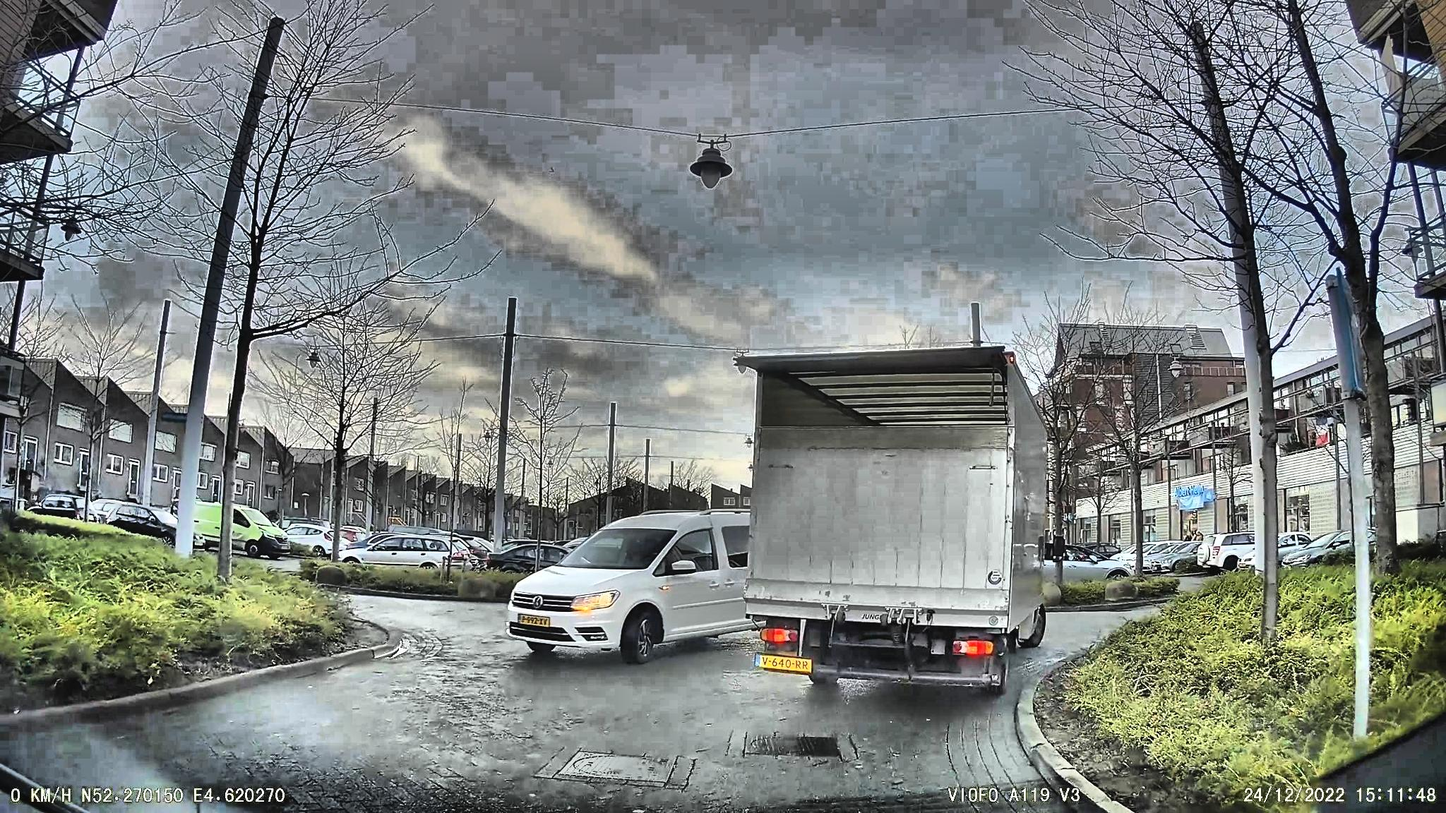Roads: (0, 598, 1112, 813)
